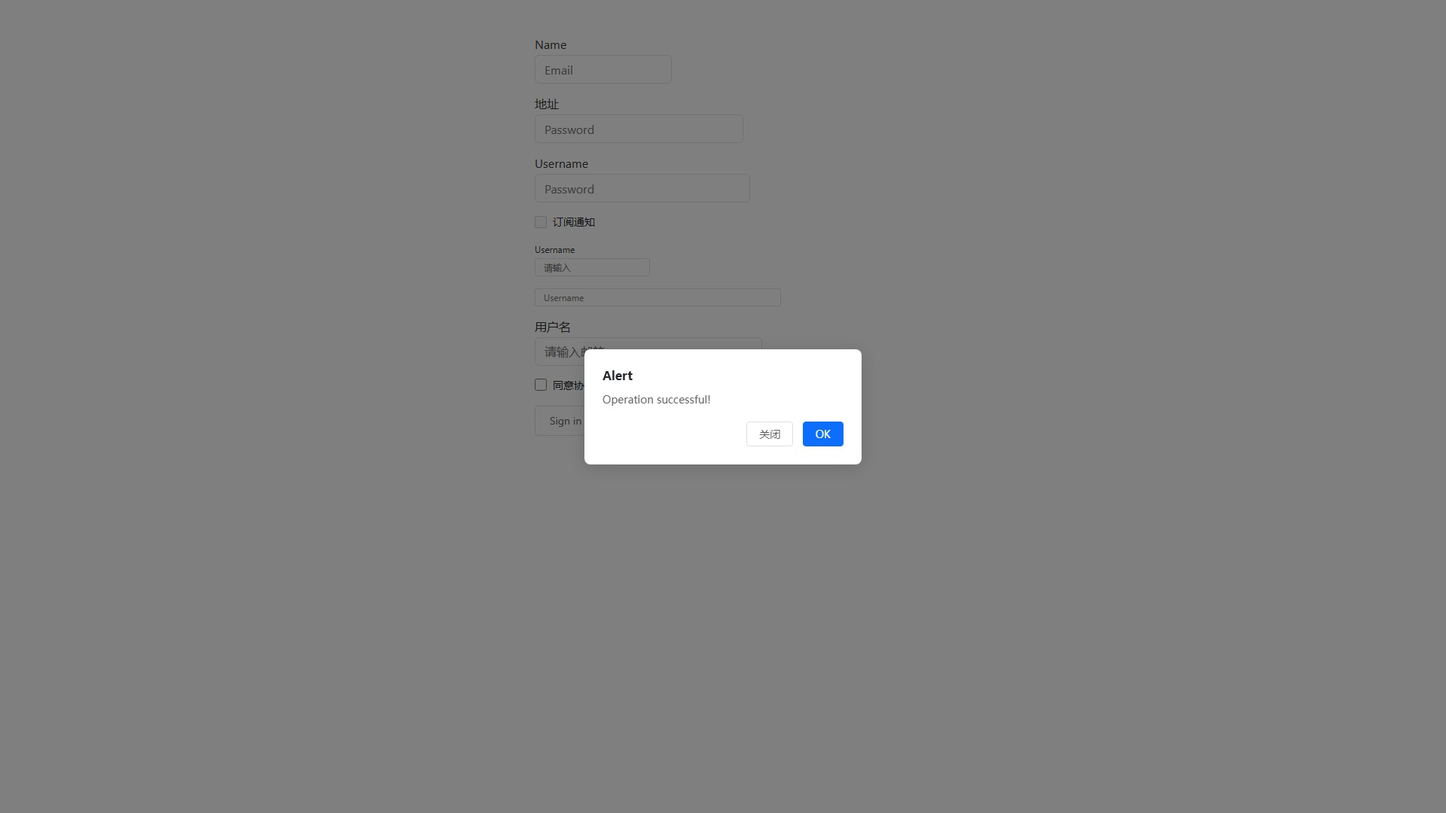button: (535, 406, 597, 436), (747, 421, 793, 446), (803, 421, 844, 446)
checkbox: (535, 216, 547, 228), (535, 379, 547, 391)
icon: (553, 215, 595, 229), (553, 378, 595, 392)
input: (535, 337, 762, 365), (535, 114, 743, 143), (535, 174, 750, 202), (535, 288, 781, 306), (535, 55, 672, 84), (535, 258, 650, 276)
modal: (0, 0, 1446, 813)
radio: (535, 215, 595, 229), (535, 378, 595, 392)
